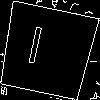I: (22, 25, 46, 74)
